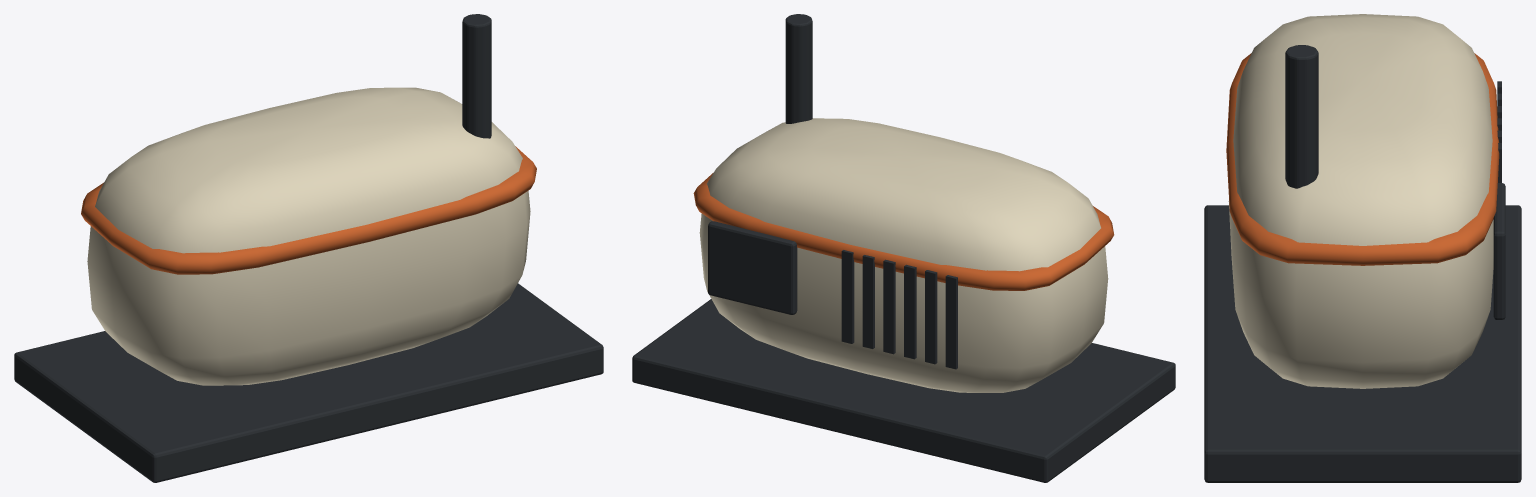
The model's file is prop_generator.glb.
3 views of the same model, side by side, from view 1: azimuth 30°, elevation 25°; view 2: azimuth 150°, elevation 25°; view 3: azimuth 270°, elevation 25° (orthographic). The views are drawn at different scales.
Parts seen in each view (by area): view 1: housing, skid, housing_band, exhaust; view 2: housing, skid, housing_band, panel, exhaust, vent5, vent0, vent2, vent1, vent3, vent4; view 3: housing, skid, housing_band, exhaust, panel.
Boxes of the visible parts, x1,y1,x2,y2 form: housing: (87, 87, 530, 385); skid: (14, 283, 603, 482); housing_band: (81, 146, 536, 274); exhaust: (462, 14, 491, 138); housing: (699, 118, 1108, 392); skid: (632, 299, 1175, 482); housing_band: (693, 173, 1114, 290); panel: (708, 221, 797, 314); exhaust: (785, 14, 812, 123); vent5: (841, 250, 854, 343); vent0: (945, 275, 957, 369); vent2: (904, 264, 916, 359); vent1: (925, 270, 937, 364); vent3: (883, 259, 895, 354); vent4: (862, 255, 874, 348); housing: (1228, 14, 1493, 388); skid: (1204, 205, 1521, 482); housing_band: (1226, 53, 1499, 265); exhaust: (1285, 45, 1318, 188); panel: (1493, 183, 1505, 319).
Bounding box in the file's own units: 2.4 × 1.75 × 1.3.
